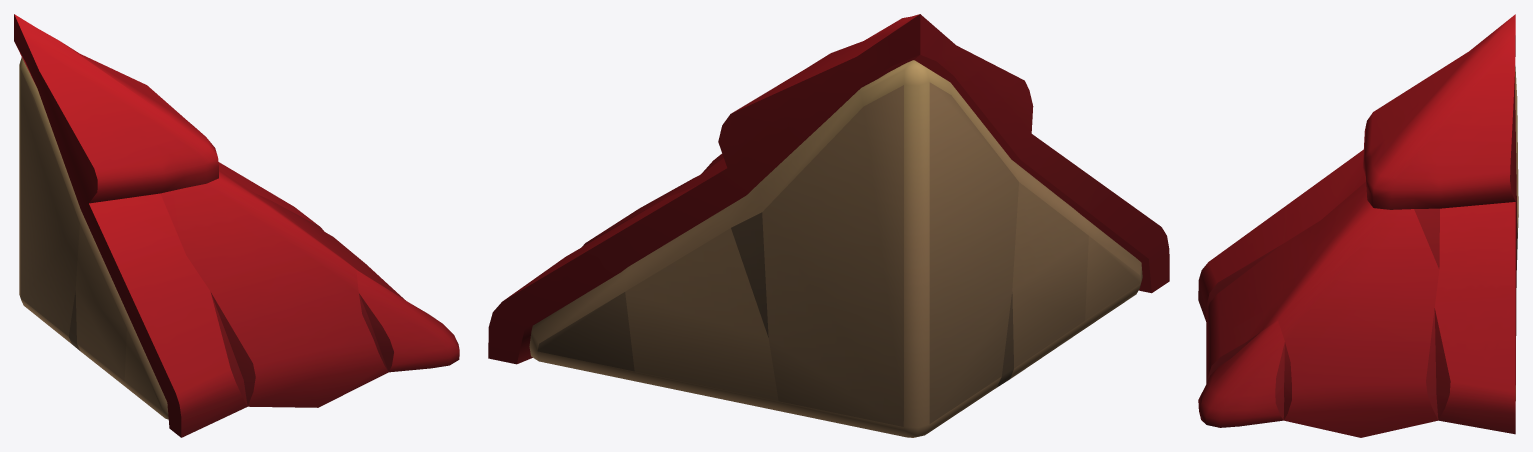
File: tavern_roof_corner.fbx
The picture shows the model from 3 angles, left to right: view 1: azimuth 30°, elevation 25°; view 2: azimuth 150°, elevation 25°; view 3: azimuth 270°, elevation 25°; orthographic projection. The views are drawn at different scales.
Parts seen in each view (by area): view 1: tavern_roof_corner_LOD0; view 2: tavern_roof_corner_LOD0; view 3: tavern_roof_corner_LOD0.
Boxes of the visible parts, left/top/right/bottom form: tavern_roof_corner_LOD0: left=14, top=14, right=459, bottom=437; tavern_roof_corner_LOD0: left=488, top=14, right=1169, bottom=437; tavern_roof_corner_LOD0: left=1198, top=14, right=1518, bottom=437.
Size of what is drawn, in the model's own units: 103 by 105 by 104.
